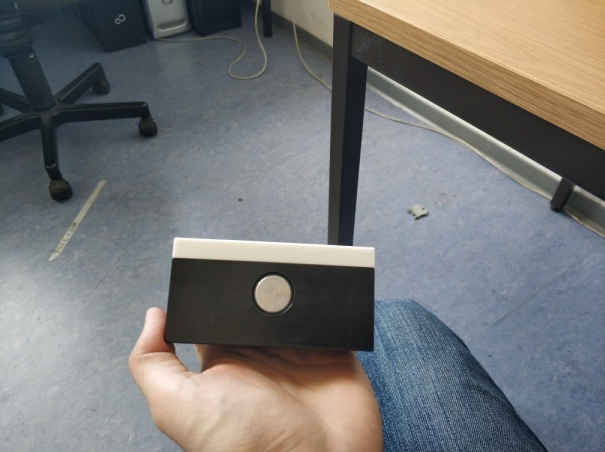white+black+silver: (161, 235, 380, 354)
